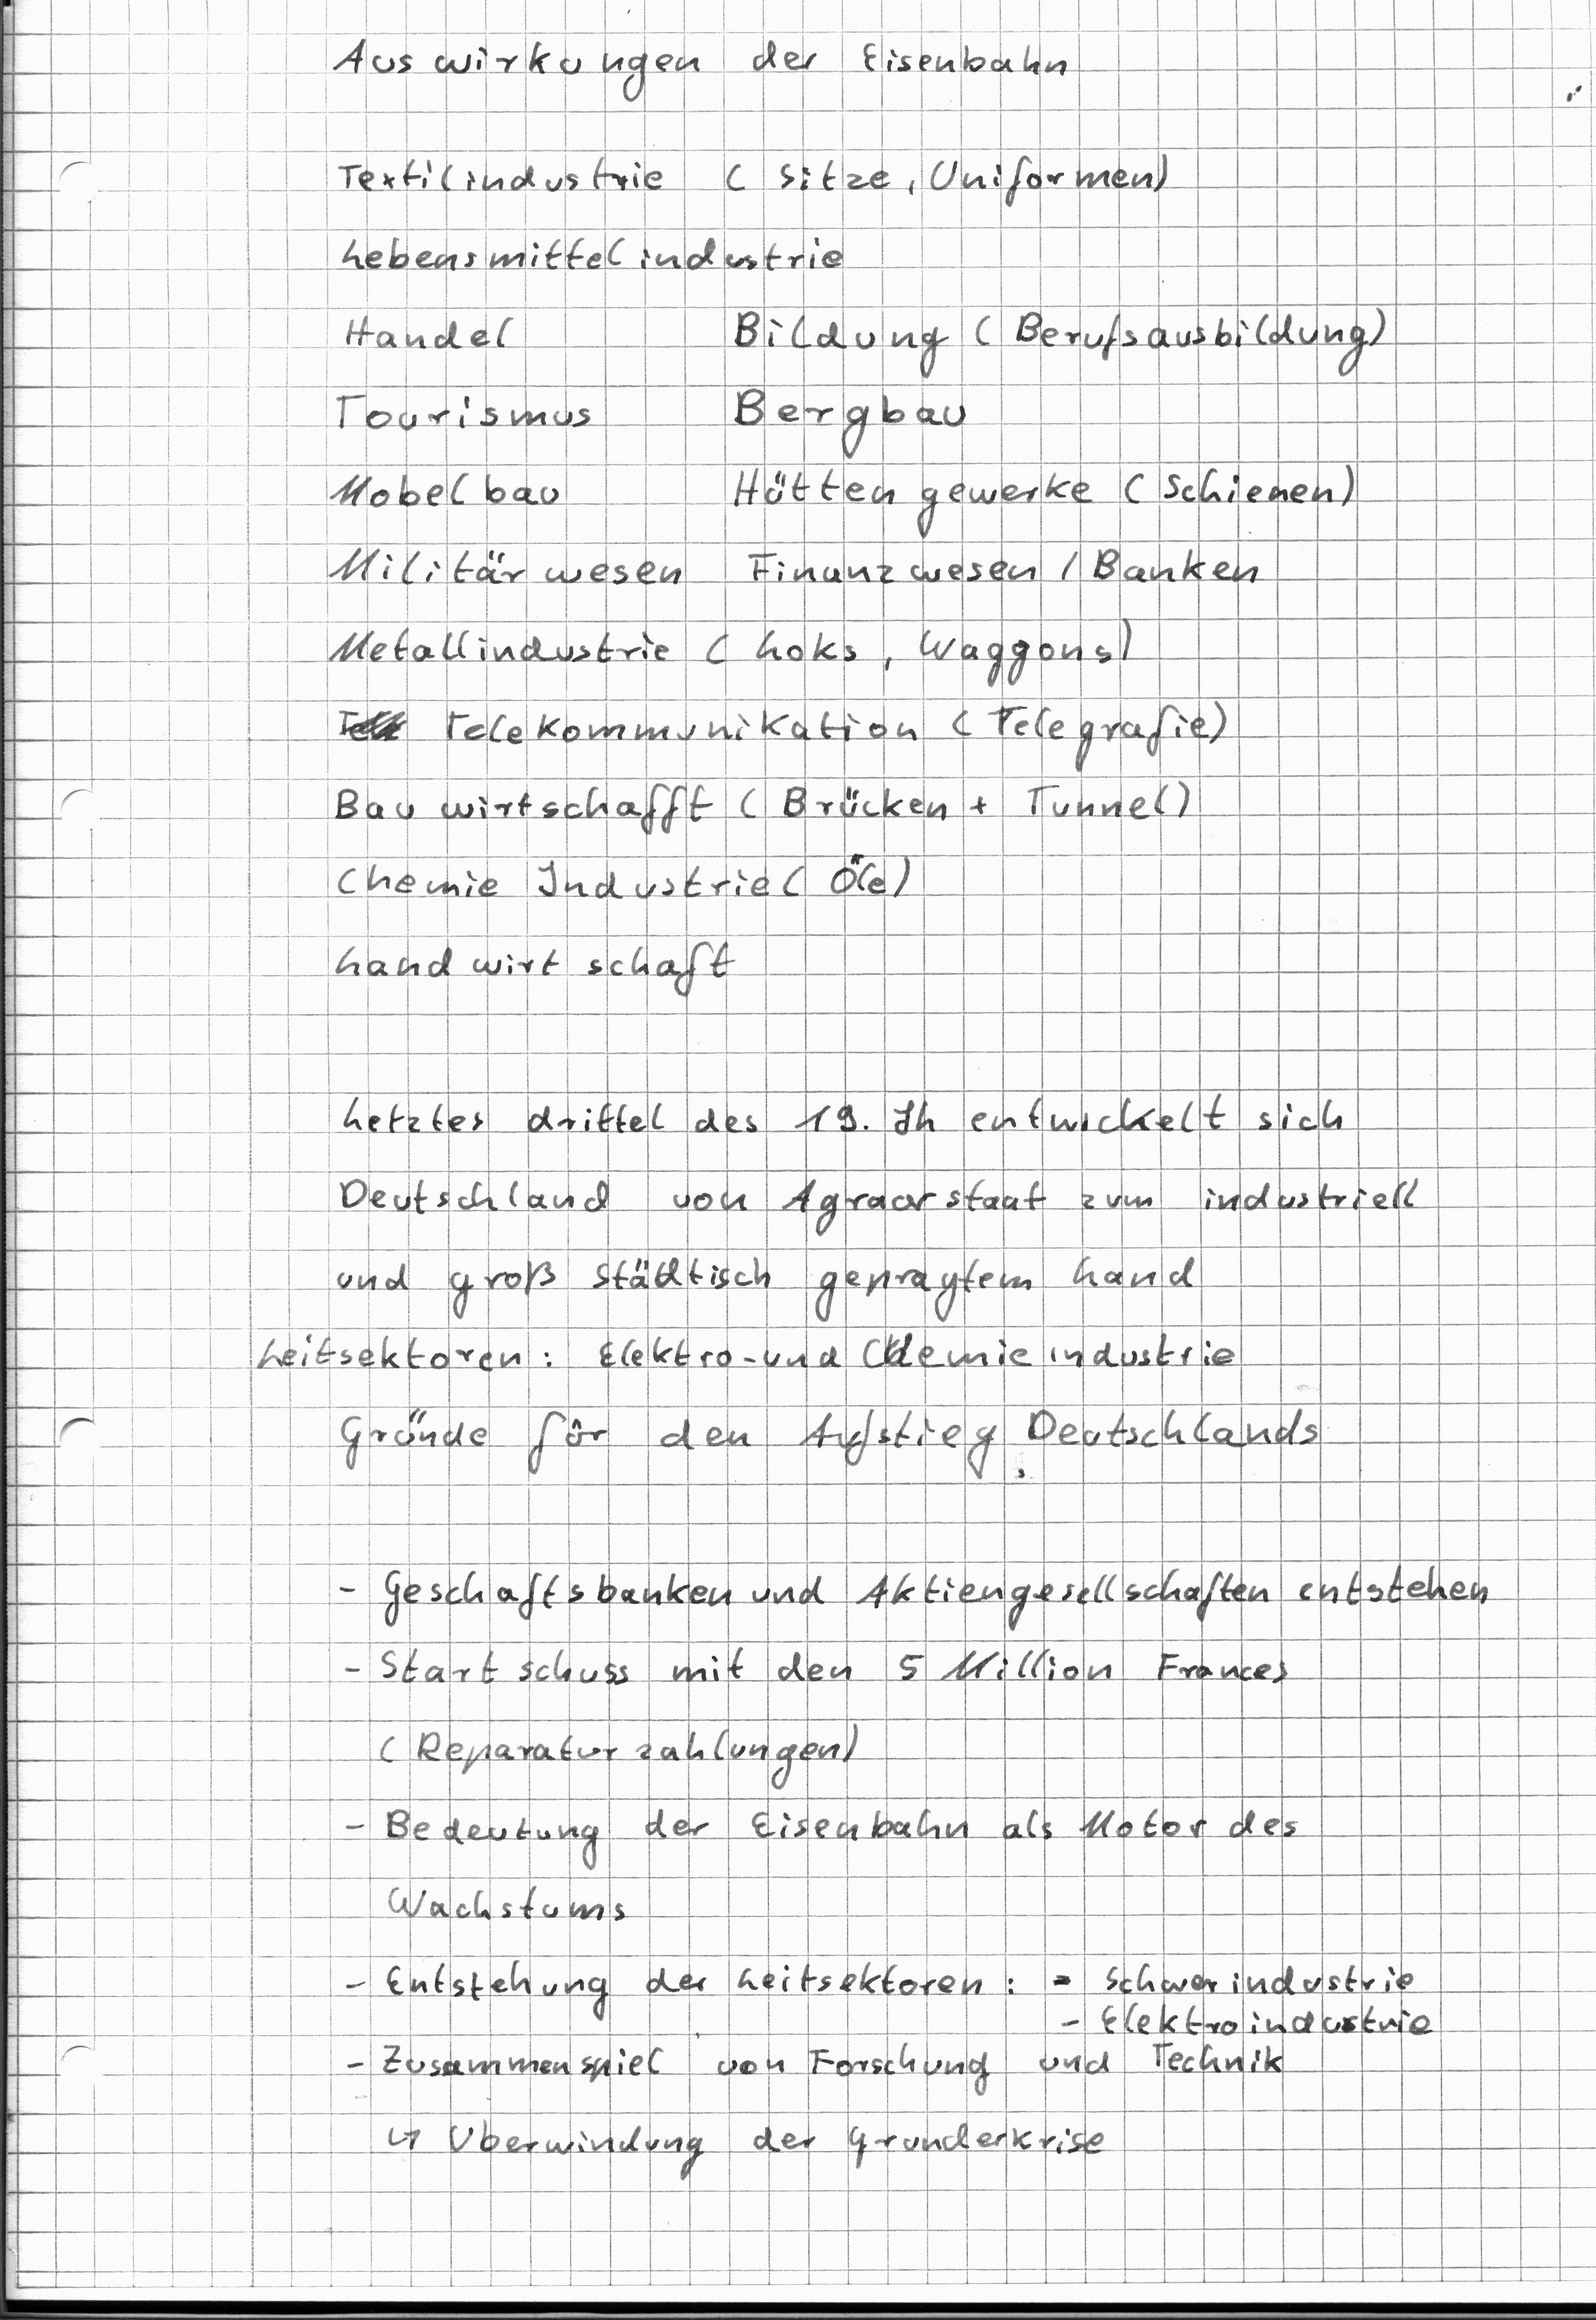word: (247, 1087, 1443, 1488), (317, 543, 1280, 1009), (324, 1554, 1501, 1934), (336, 1946, 1444, 2186), (712, 290, 1396, 543), (318, 139, 1185, 282), (318, 11, 1103, 125), (286, 296, 625, 518)
